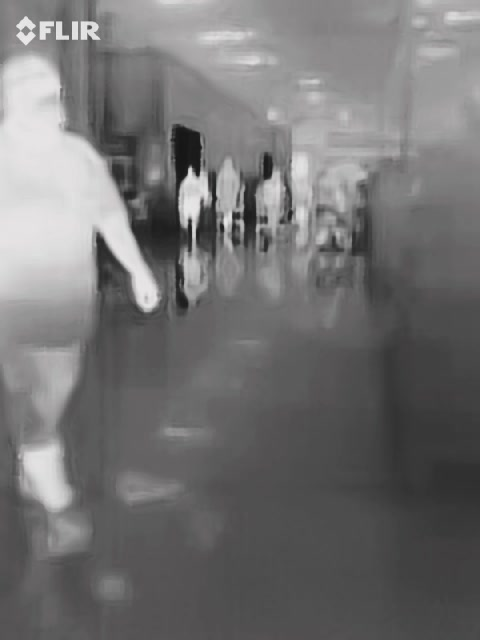head: (1, 51, 69, 133)
